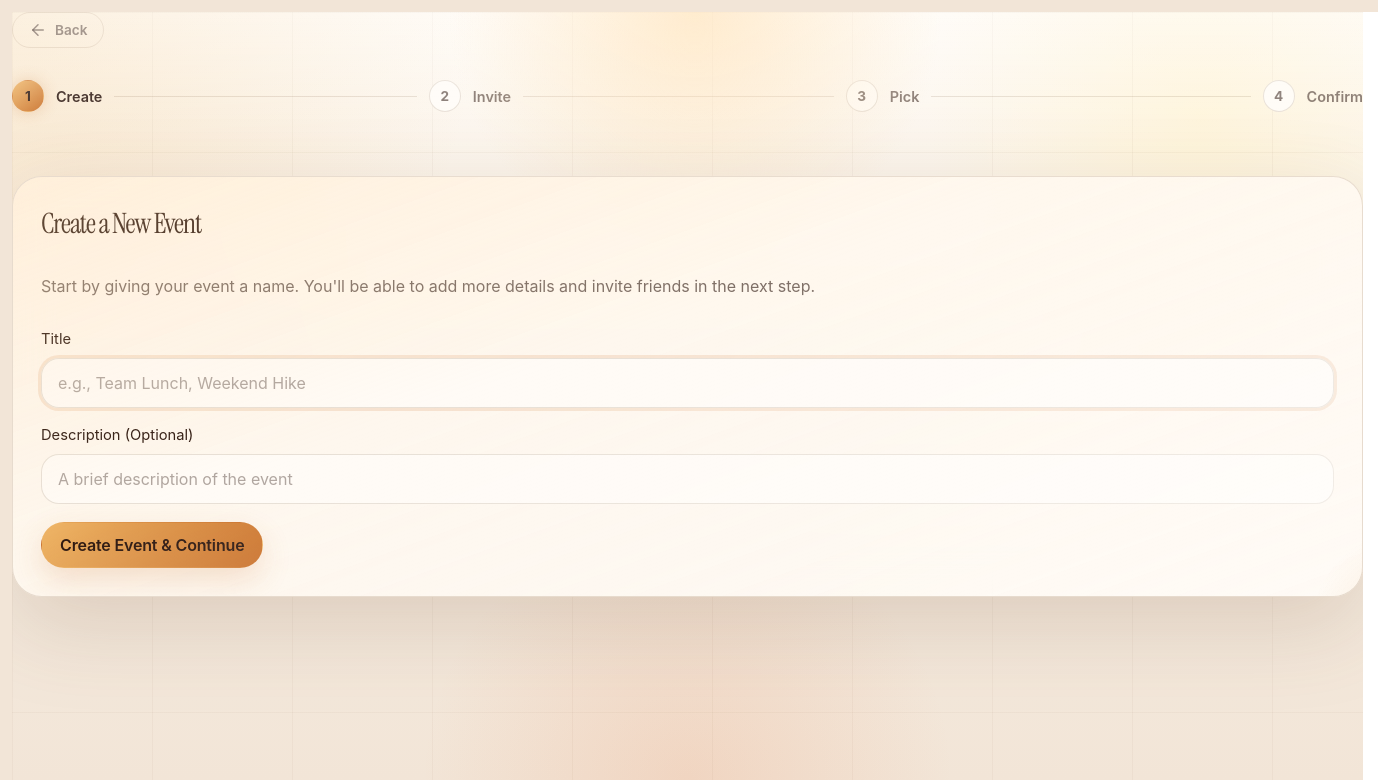
Scenario: EventCreationForm › clears field error when user starts typing
The image size is (1378, 780).
Click the button "Create Event & Continue" at (152, 545), box [41,522,264,568]
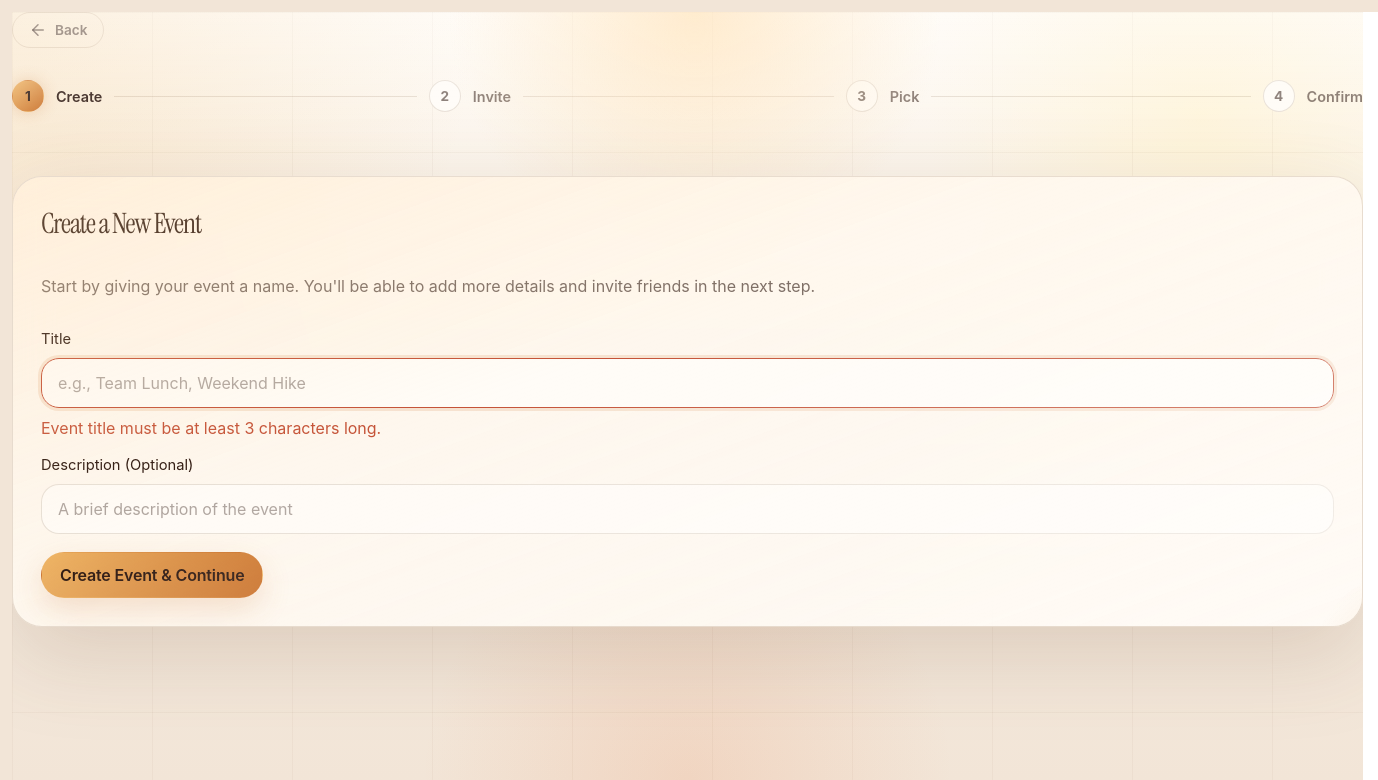
expect the text "Event title must be at least 3 characters long." is shown: met, box [41,418,381,438]
Type "Valid Title" into the field labelled "Title" at (688, 383), box [41,358,1334,408]
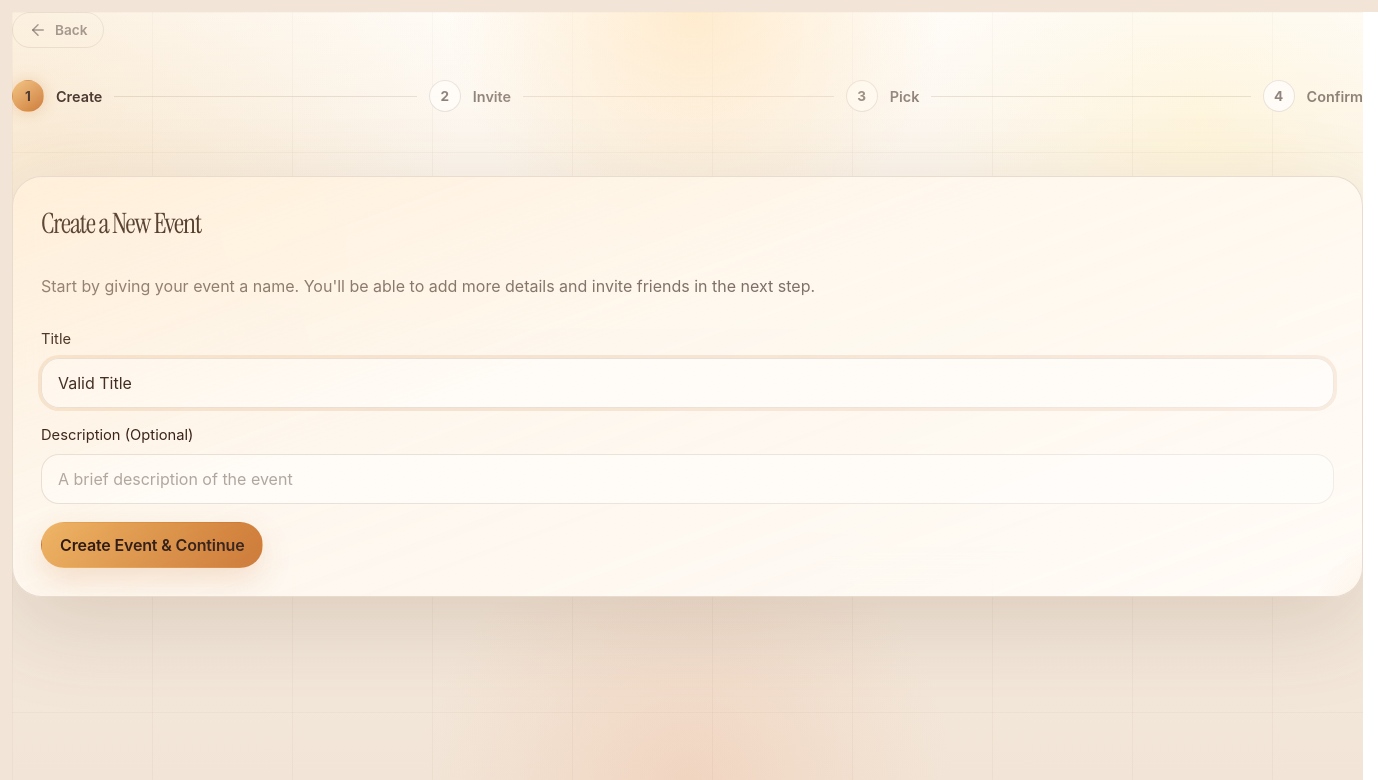
expect the text "Event title must be at least 3 characters long" is gone: met
